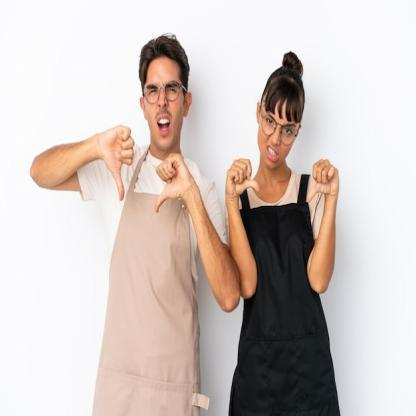thumb_down: (100, 113, 136, 210), (150, 146, 189, 221), (301, 152, 344, 209), (221, 148, 262, 207)
